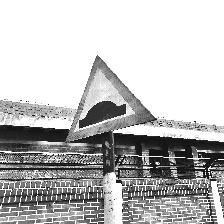Speed-breaker: (65, 55, 158, 142)
